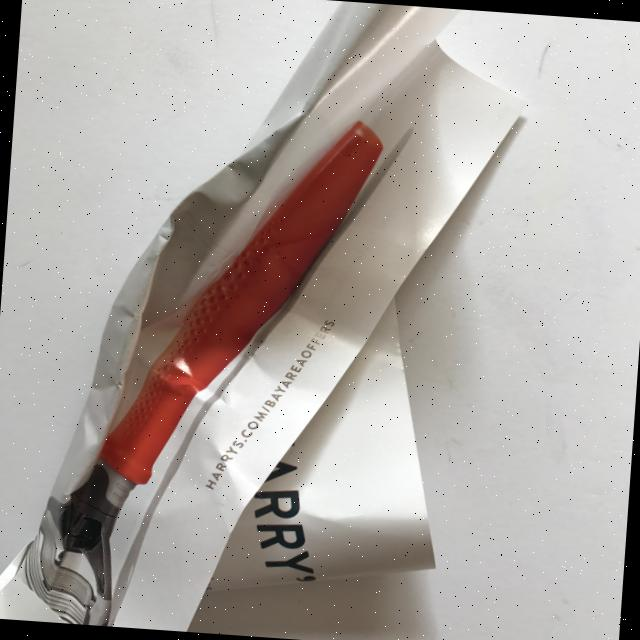paper: (0, 0, 556, 640)
